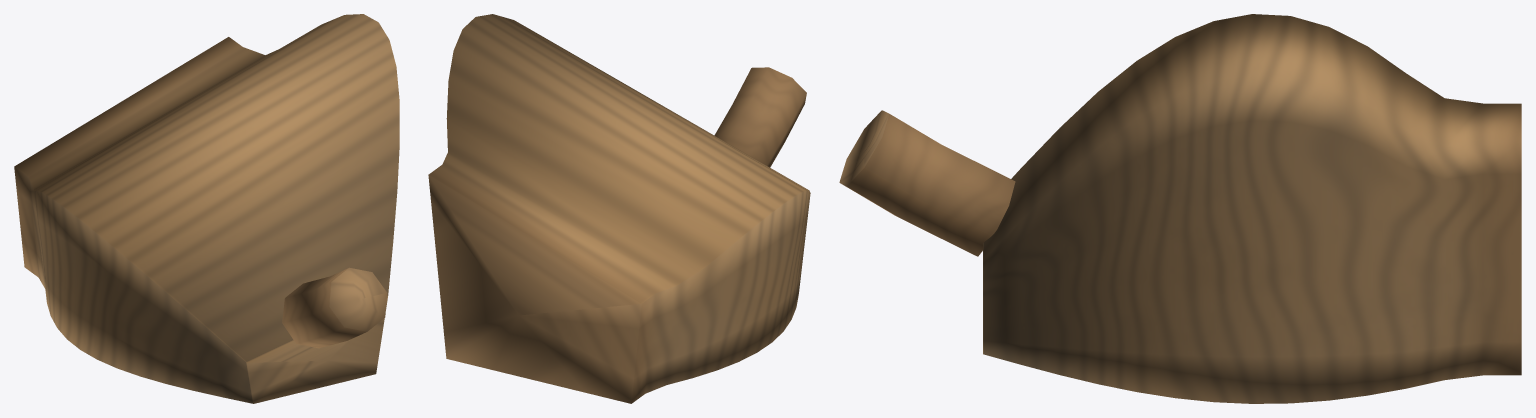
Rendered from bailer.glb.
3 views of the same model, side by side, from view 1: azimuth 30°, elevation 25°; view 2: azimuth 150°, elevation 25°; view 3: azimuth 270°, elevation 25° (orthographic). The views are drawn at different scales.
Visible parts, largest first — view 1: bailer_LOD0; view 2: bailer_LOD0; view 3: bailer_LOD0.
Boxes of the visible parts, x1,y1,x2,y2 form: bailer_LOD0: [14, 14, 399, 403]; bailer_LOD0: [428, 14, 810, 403]; bailer_LOD0: [839, 14, 1521, 403].
Size of what is drawn, in the model's own units: 0.2384 by 0.1852 by 0.3292.
Materials: 1 (1 with a texture image).
